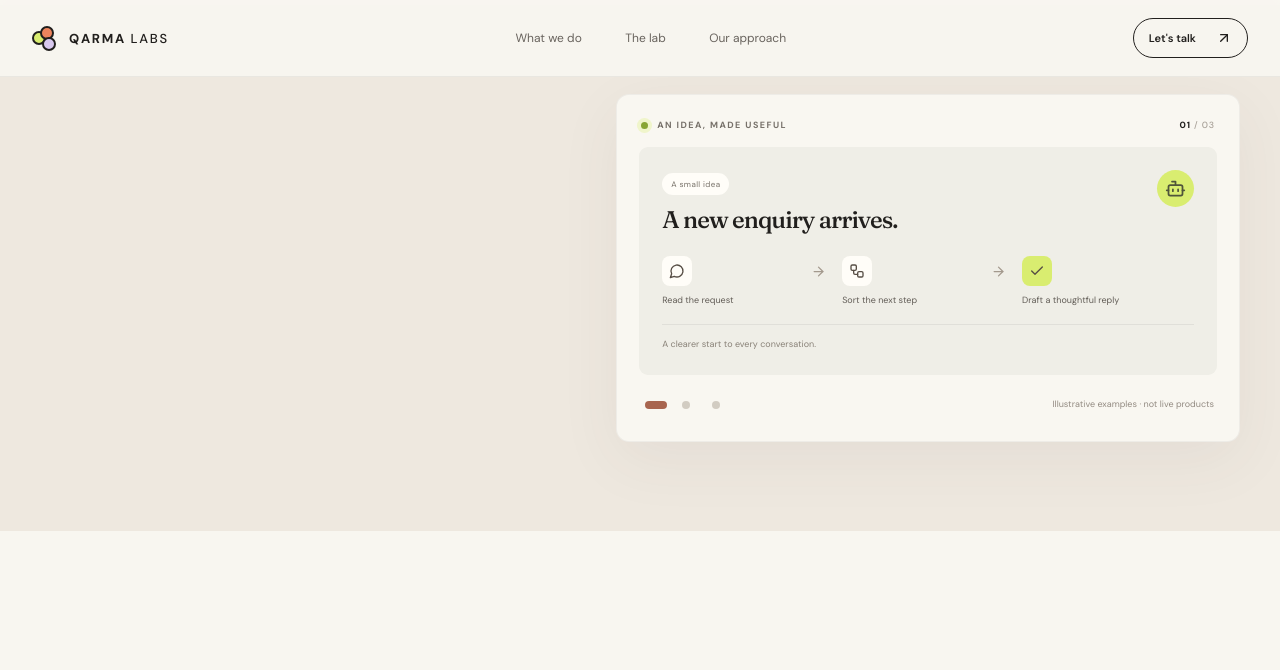
it: Qarma Labs company website › switches the clearly labelled illustrative workflow example
The image size is (1280, 670).
(page scrolled)
Check: the heading "A new enquiry arrives." is shown, box top-left (662, 206), bottom-right (897, 234)
What coordinates should you click on to do the following:
click the button named "Show example 2: A daily task"
I would click on:
 (686, 405)
Its box is top-left (672, 391), bottom-right (700, 419).
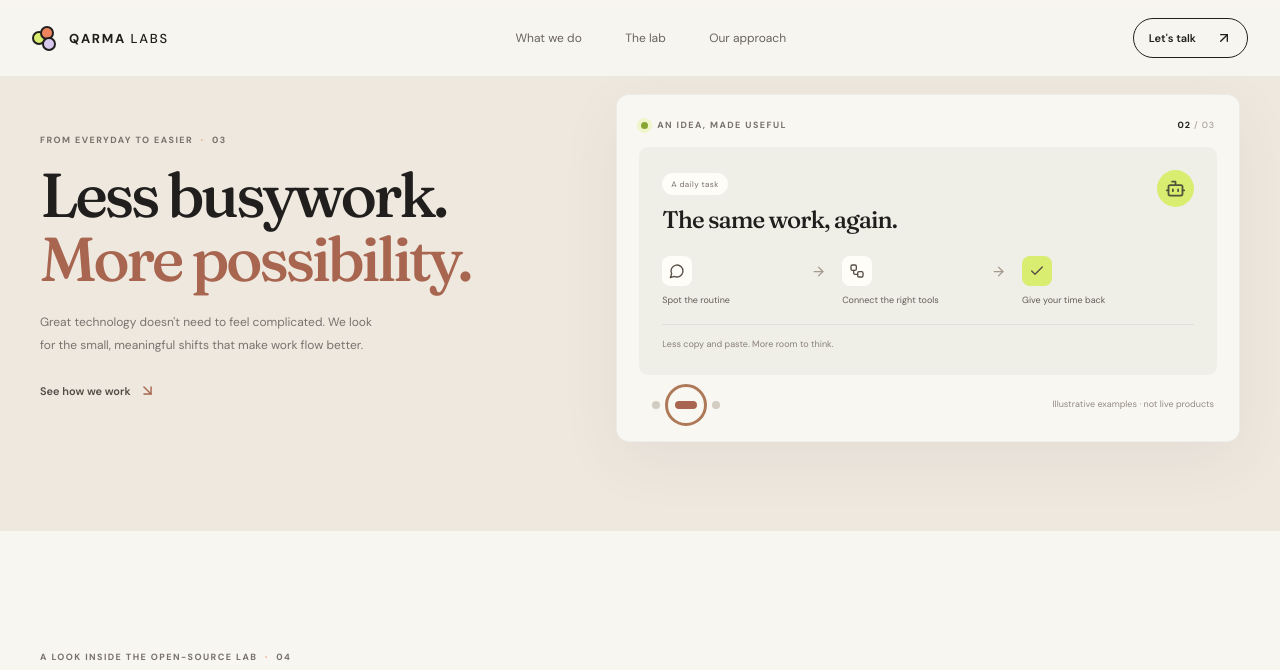
Check: the text "Illustrative examples · not live products" is shown, box top-left (1052, 398), bottom-right (1214, 412)
Check: the heading "The same work, again." is shown, box top-left (662, 206), bottom-right (897, 234)
